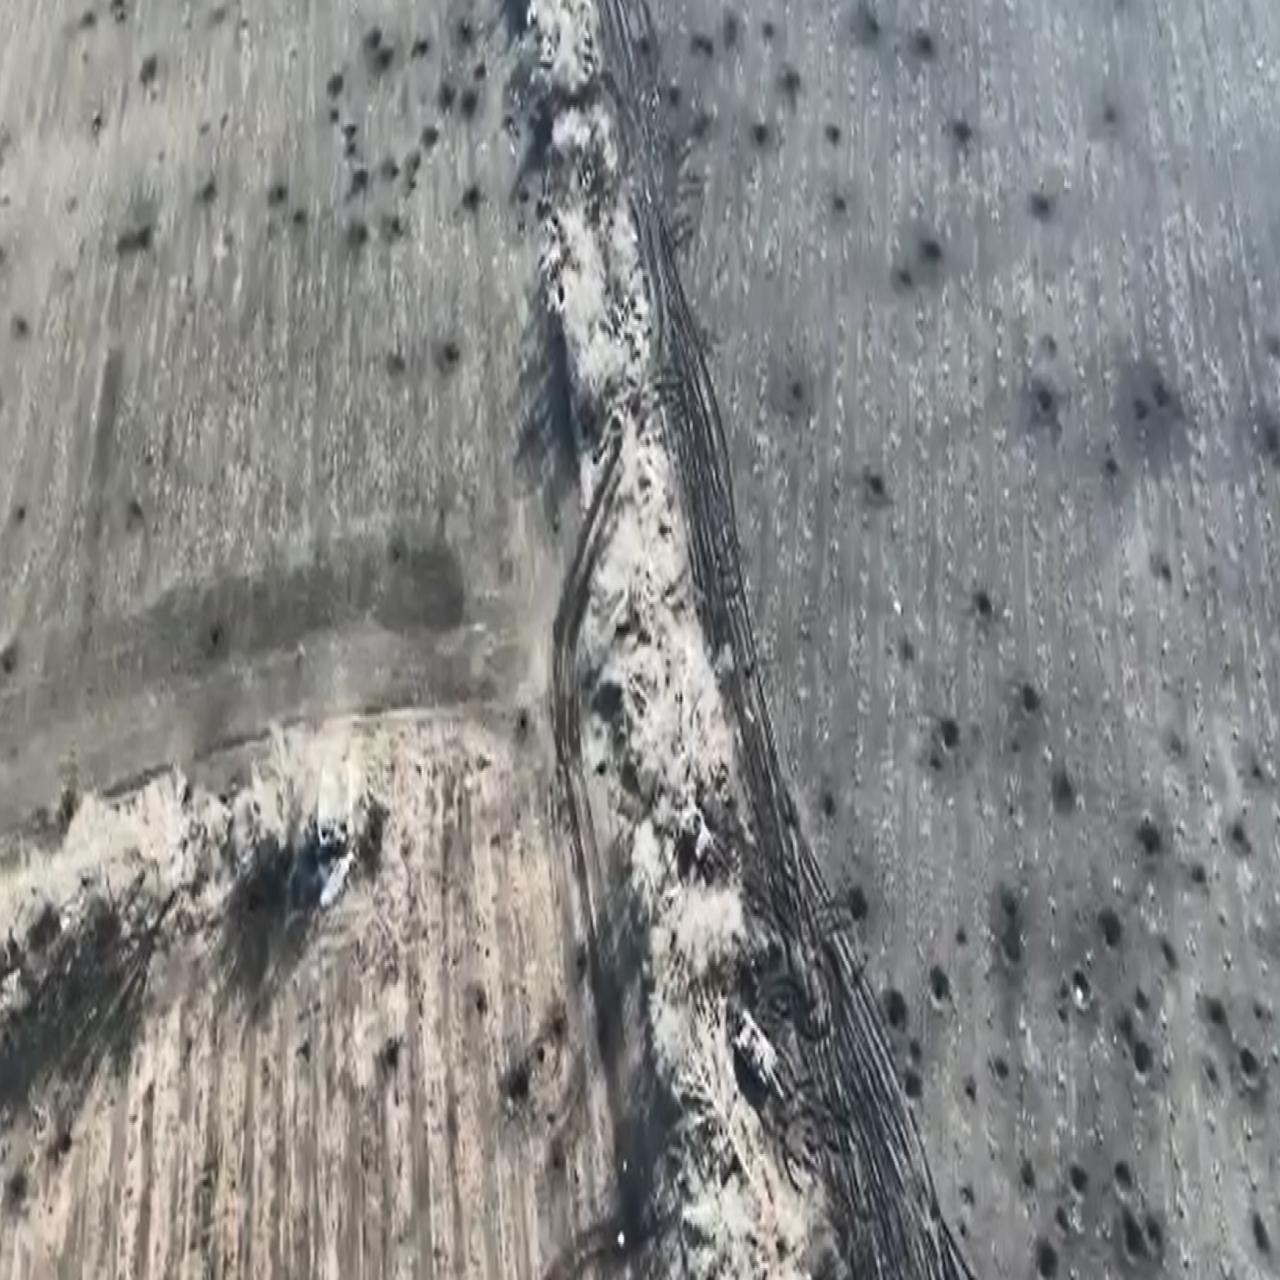MIL_Veh: (720, 1007, 788, 1102)
